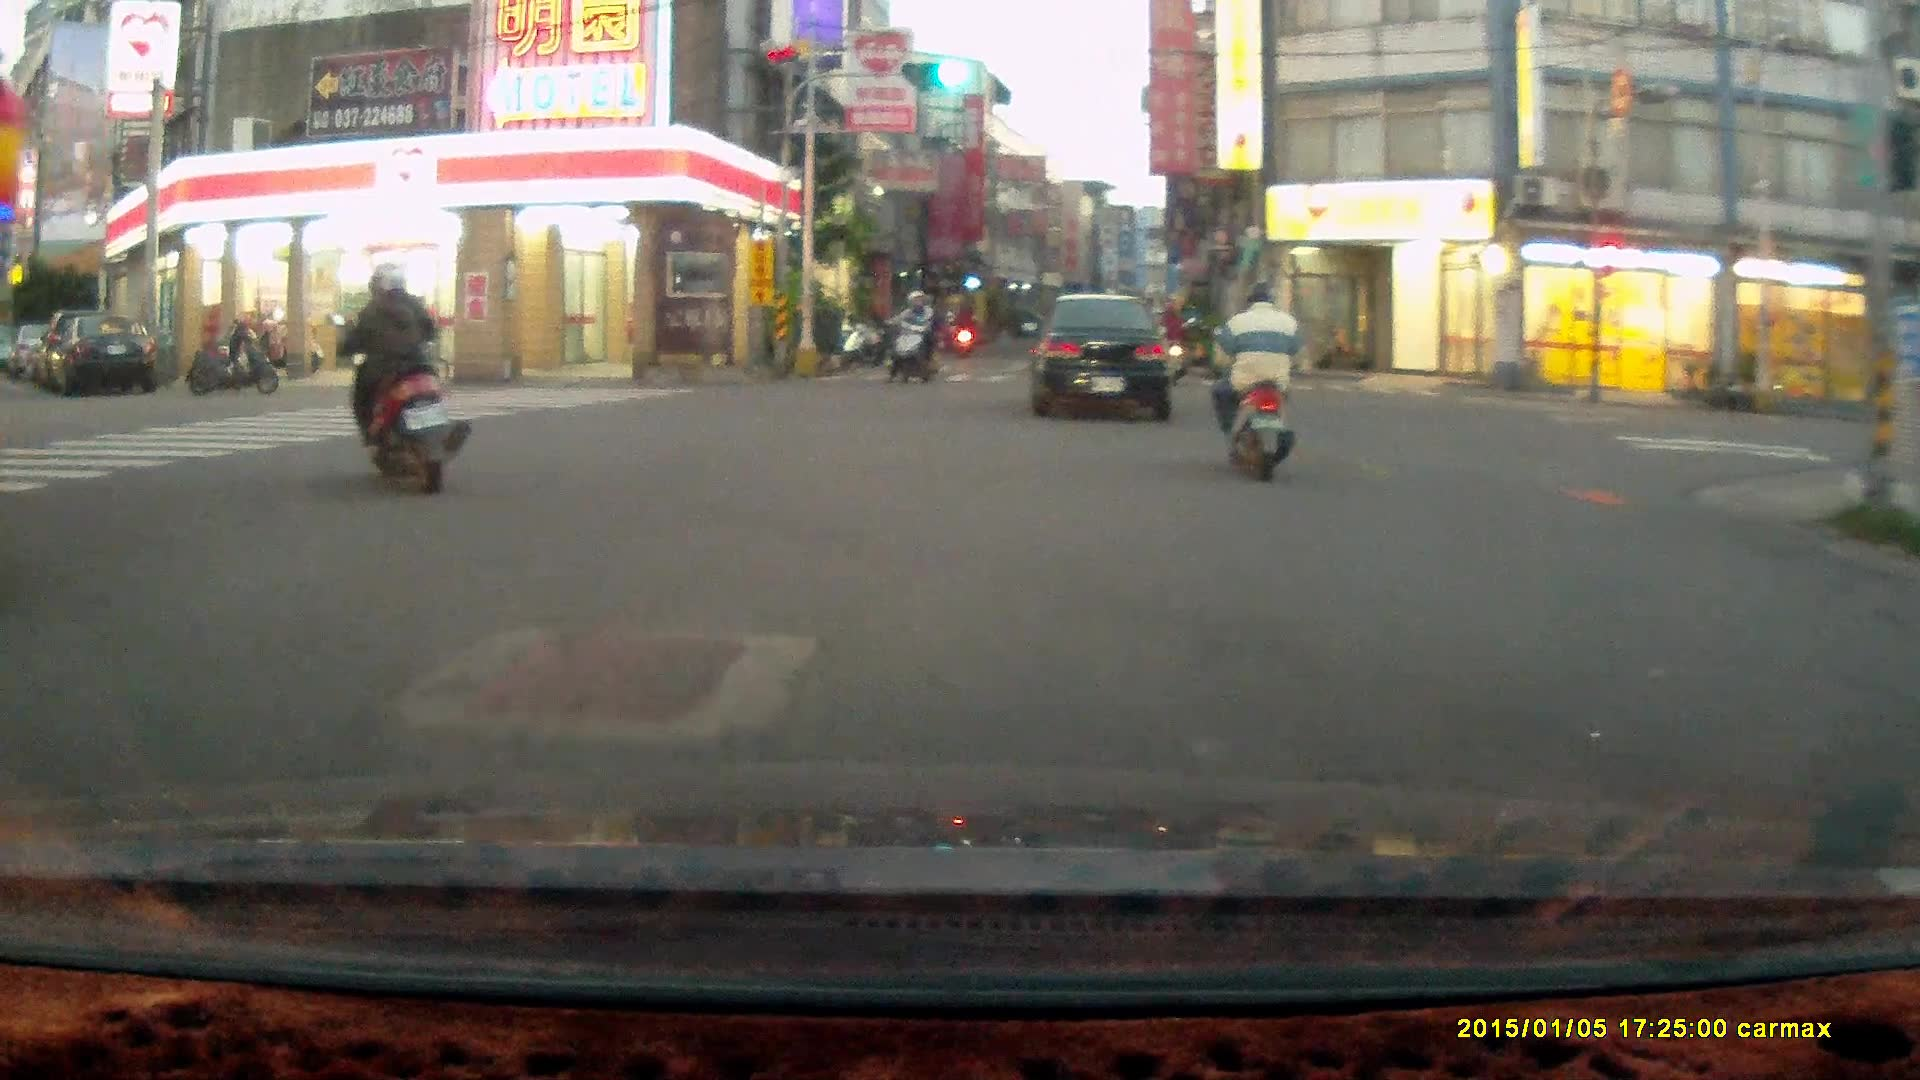rider: (326, 262, 471, 499), (1211, 281, 1301, 484), (881, 288, 939, 388), (1152, 295, 1189, 377)
vehicle: (1031, 293, 1177, 426), (65, 309, 161, 394)
